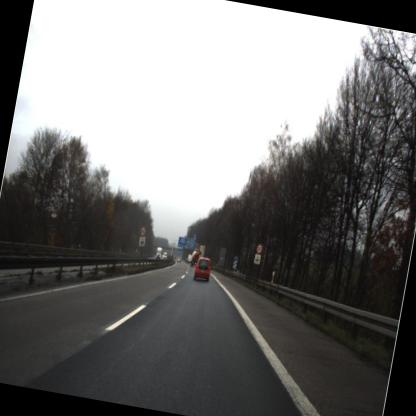prohibitory: (136, 223, 148, 238), (253, 239, 264, 255)
